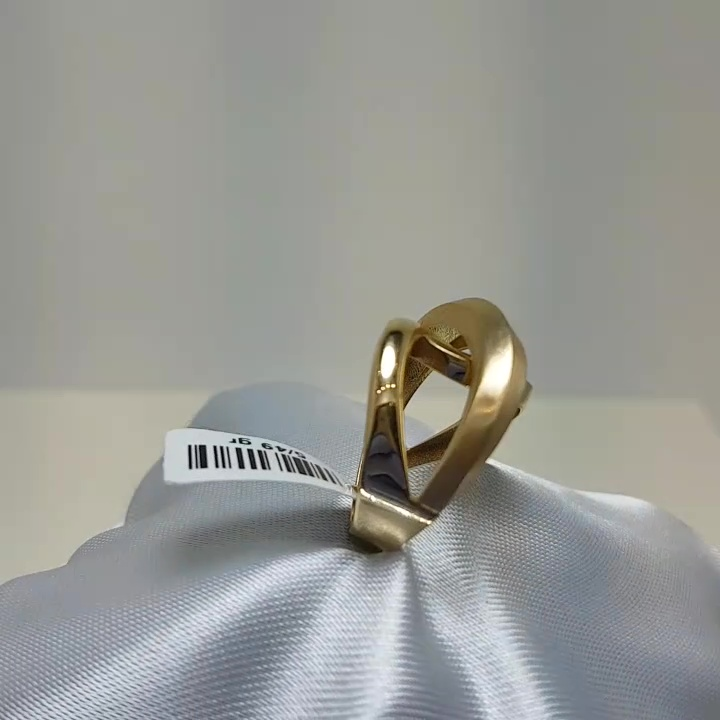Ring 3: (297, 292, 554, 553)
